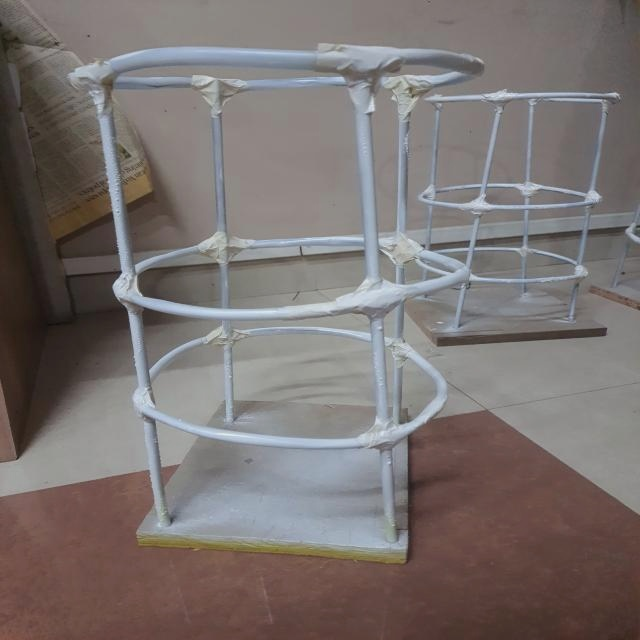silo: (69, 42, 422, 563), (423, 78, 617, 341)
